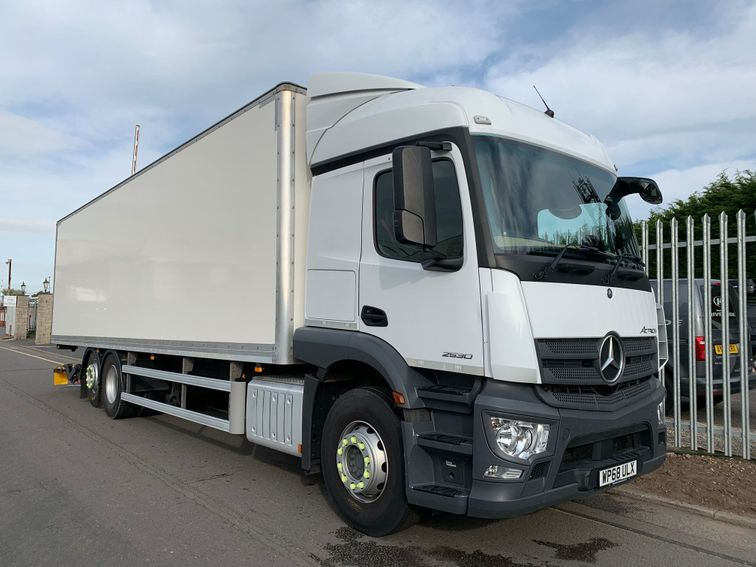Semi: (48, 73, 665, 536)
